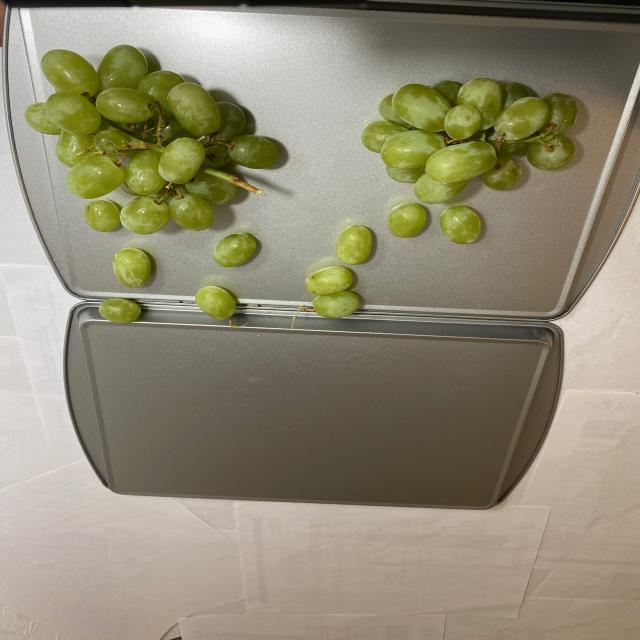grapes: (23, 75, 591, 322)
